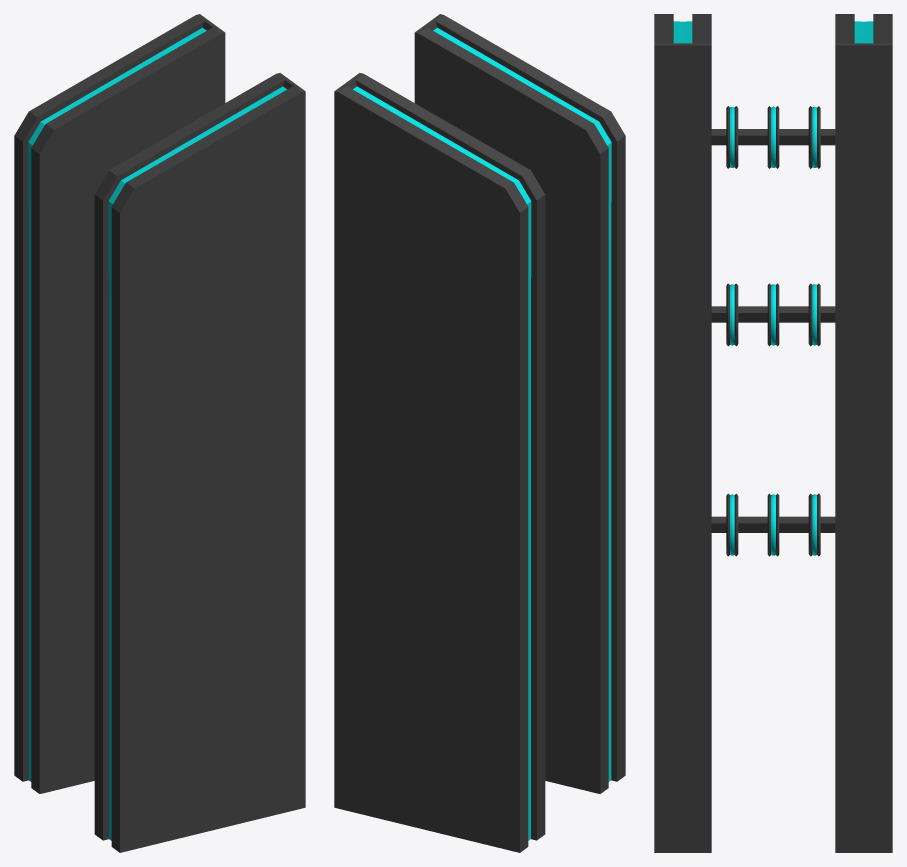
File: building_powerGen.fbx
The picture shows the model from 3 angles, left to right: view 1: azimuth 30°, elevation 25°; view 2: azimuth 150°, elevation 25°; view 3: azimuth 270°, elevation 25°; orthographic projection. The views are drawn at different scales.
Parts seen in each view (by area): view 1: building_powerGen; view 2: building_powerGen; view 3: building_powerGen.
Boxes of the visible parts, x1,y1,x2,y2 form: building_powerGen: (14,14,305,852); building_powerGen: (334,14,625,852); building_powerGen: (654,14,892,852).
Bounding box in the file's own units: 8.99 × 33.15 × 8.86.
